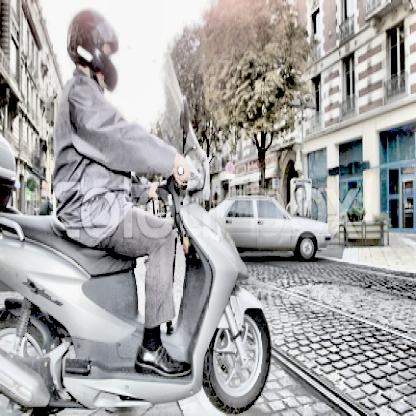wear: (67, 7, 122, 102)
